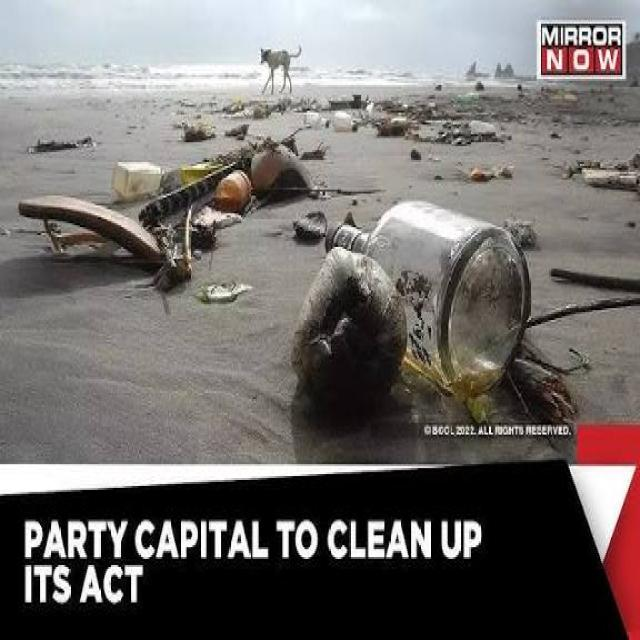glass: (326, 182, 545, 394)
